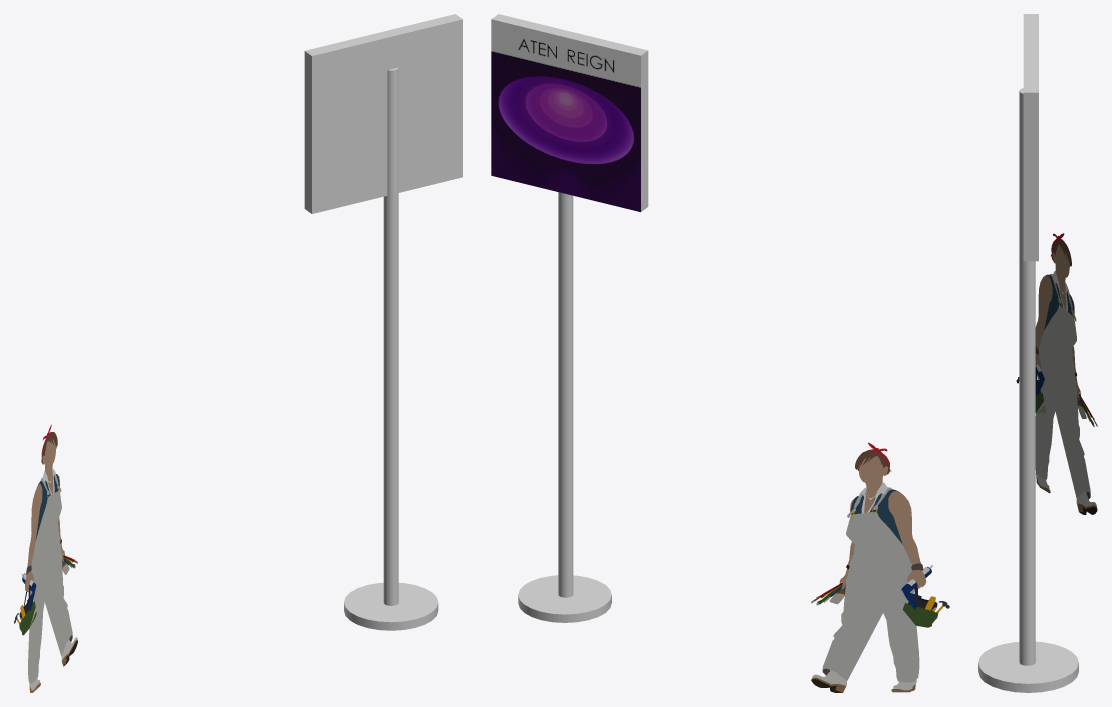
The model's file is aten.fbx.
The picture shows the model from 3 angles, left to right: view 1: azimuth 30°, elevation 25°; view 2: azimuth 150°, elevation 25°; view 3: azimuth 270°, elevation 25°; orthographic projection. The views are drawn at different scales.
Parts seen in each view (by area): view 1: Model, Lisanne1; view 2: Model, Lisanne1; view 3: Model, Lisanne1.
Part boxes in pixels (x1=…): Model: x1=304, y1=14, x2=462, y2=630; Lisanne1: x1=14, y1=424, x2=77, y2=692; Model: x1=491, y1=14, x2=648, y2=622; Lisanne1: x1=811, y1=442, x2=949, y2=692; Model: x1=978, y1=14, x2=1078, y2=692; Lisanne1: x1=1016, y1=233, x2=1097, y2=514.
Bounding box in the file's own units: 125 × 152 × 26.86.
